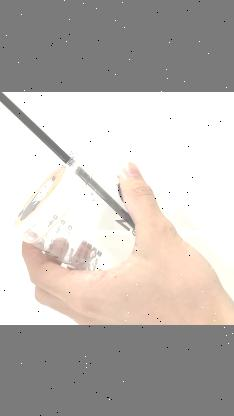Others: (4, 133, 137, 271)
